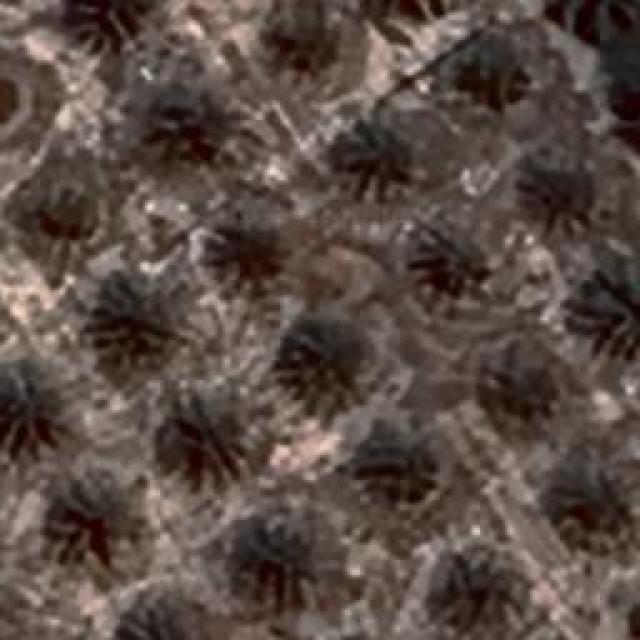PalmTree: (90, 19, 592, 89), (277, 315, 375, 420), (428, 540, 530, 635), (246, 515, 332, 610), (95, 282, 183, 370), (52, 470, 146, 552), (0, 350, 72, 455), (168, 390, 252, 475), (524, 158, 614, 236), (458, 41, 538, 124), (402, 226, 488, 299), (558, 460, 638, 538), (155, 82, 233, 162), (266, 0, 351, 72), (66, 0, 164, 60), (362, 428, 432, 508), (489, 348, 559, 424), (345, 126, 420, 196), (114, 587, 204, 640), (590, 260, 638, 355), (216, 220, 282, 285), (608, 41, 640, 145), (365, 0, 466, 20), (364, 0, 466, 11)
